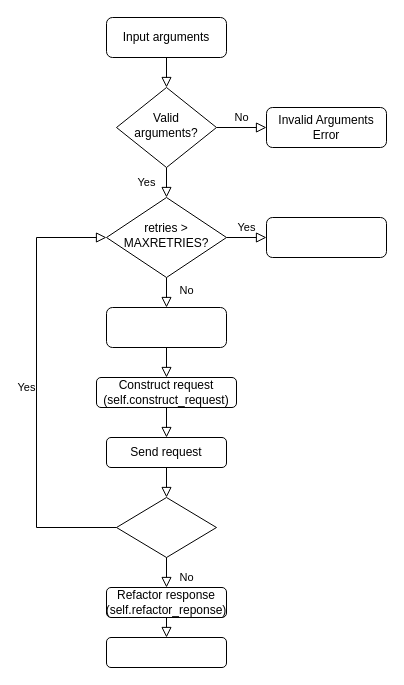
This 404x685 diagram has some shape labels left out. Each missing label, with the centre of its shape:
Print repsponse (self.print_response): (166,652)
Retries Error: (326,237)
Setup socket and packet: (166,327)
Timeout reached?: (166,527)
